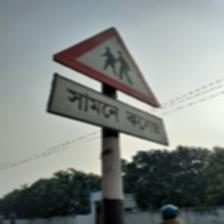College-in-front: (22, 7, 158, 132)
